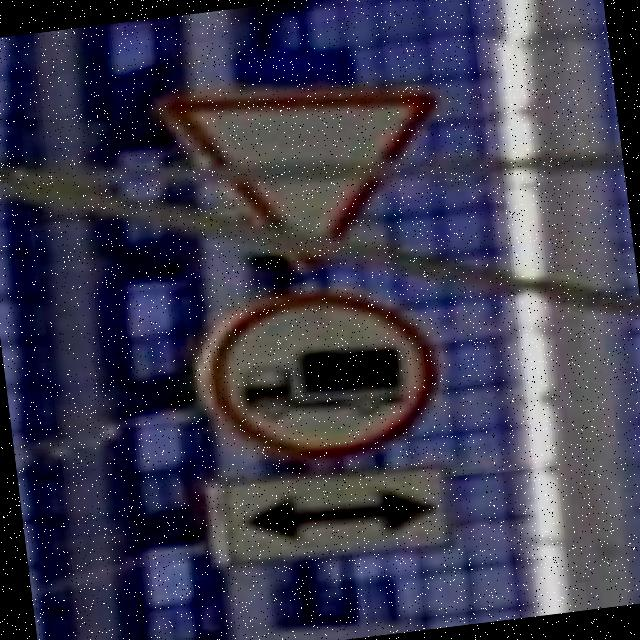Ustap pierwszenstwa: (150, 63, 456, 297)
